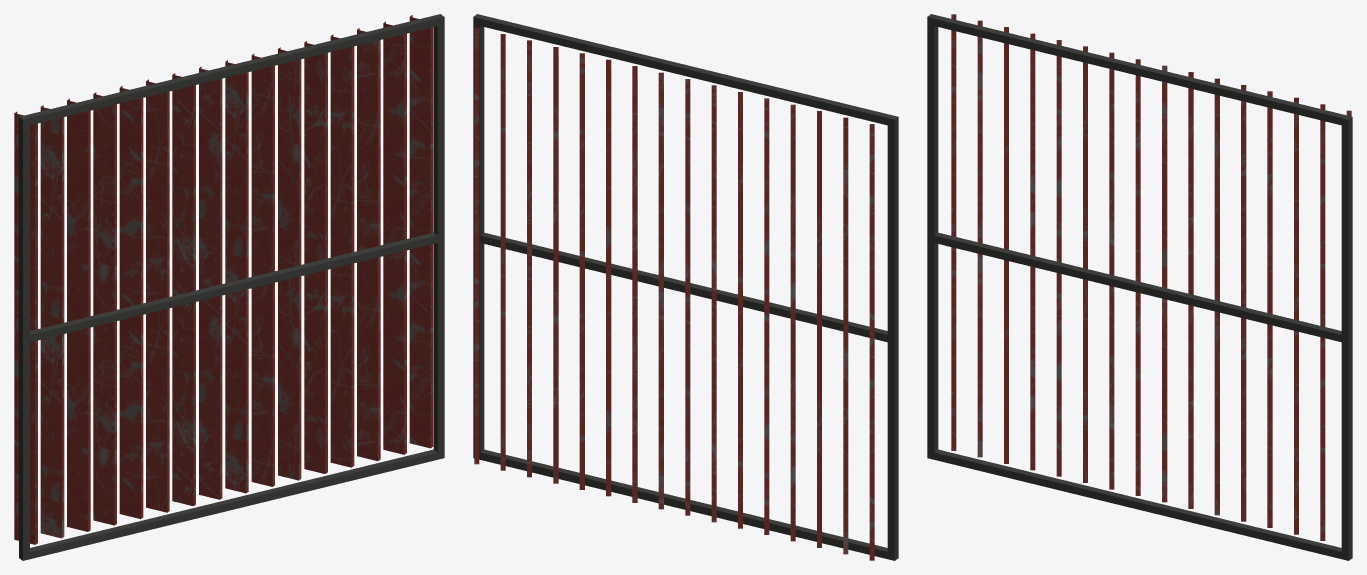
Rendered from celosia_chapa.glb.
The picture shows the model from 3 angles, left to right: view 1: azimuth 30°, elevation 25°; view 2: azimuth 150°, elevation 25°; view 3: azimuth 330°, elevation 25°; orthographic projection.
Parts seen in each view (by area): view 1: CelosiaChapaBastidor, CelosiaLama13, CelosiaLama02, CelosiaLama16, CelosiaLama05, CelosiaLama04, CelosiaLama09, CelosiaLama11, CelosiaLama14, CelosiaLama03, CelosiaLama07, CelosiaLama06 (+5 smaller); view 2: CelosiaChapaBastidor, CelosiaLama07, CelosiaLama02, CelosiaLama04, CelosiaLama09, CelosiaLama11, CelosiaLama16, CelosiaLama01, CelosiaLama05, CelosiaLama08, CelosiaLama10, CelosiaLama12 (+5 smaller); view 3: CelosiaChapaBastidor, CelosiaLama07, CelosiaLama11, CelosiaLama02, CelosiaLama09, CelosiaLama04, CelosiaLama13, CelosiaLama01, CelosiaLama05, CelosiaLama08, CelosiaLama10, CelosiaLama12 (+4 smaller).
Boxes of the visible parts, x1=… form: CelosiaChapaBastidor: x1=19, y1=14, x2=444, y2=560; CelosiaLama13: x1=330, y1=34, x2=354, y2=467; CelosiaLama02: x1=40, y1=105, x2=64, y2=538; CelosiaLama16: x1=409, y1=15, x2=433, y2=448; CelosiaLama05: x1=119, y1=86, x2=143, y2=518; CelosiaLama04: x1=93, y1=92, x2=116, y2=525; CelosiaLama09: x1=225, y1=60, x2=248, y2=493; CelosiaLama11: x1=278, y1=47, x2=301, y2=480; CelosiaLama14: x1=357, y1=28, x2=380, y2=461; CelosiaLama03: x1=67, y1=98, x2=90, y2=531; CelosiaLama07: x1=172, y1=73, x2=195, y2=506; CelosiaLama06: x1=146, y1=79, x2=169, y2=512; CelosiaChapaBastidor: x1=473, y1=14, x2=898, y2=560; CelosiaLama07: x1=711, y1=85, x2=716, y2=522; CelosiaLama02: x1=843, y1=117, x2=848, y2=554; CelosiaLama04: x1=790, y1=104, x2=795, y2=541; CelosiaLama09: x1=658, y1=72, x2=663, y2=509; CelosiaLama11: x1=606, y1=59, x2=611, y2=496; CelosiaLama16: x1=474, y1=27, x2=479, y2=464; CelosiaLama01: x1=869, y1=124, x2=874, y2=560; CelosiaLama05: x1=764, y1=98, x2=769, y2=534; CelosiaLama08: x1=685, y1=79, x2=690, y2=515; CelosiaLama10: x1=632, y1=66, x2=637, y2=502; CelosiaLama12: x1=579, y1=53, x2=584, y2=489; CelosiaChapaBastidor: x1=927, y1=14, x2=1352, y2=560; CelosiaLama07: x1=1109, y1=52, x2=1114, y2=489; CelosiaLama11: x1=1214, y1=78, x2=1219, y2=515; CelosiaLama02: x1=977, y1=20, x2=982, y2=457; CelosiaLama09: x1=1162, y1=65, x2=1167, y2=502; CelosiaLama04: x1=1030, y1=33, x2=1035, y2=470; CelosiaLama13: x1=1267, y1=91, x2=1272, y2=527; CelosiaLama01: x1=951, y1=14, x2=956, y2=450; CelosiaLama05: x1=1056, y1=40, x2=1061, y2=476; CelosiaLama08: x1=1135, y1=59, x2=1140, y2=495; CelosiaLama10: x1=1188, y1=72, x2=1193, y2=508; CelosiaLama12: x1=1241, y1=85, x2=1246, y2=521.
Bounding box in the file's own units: 2.4 × 2.4 × 0.174.
2 materials, 1 textured.
